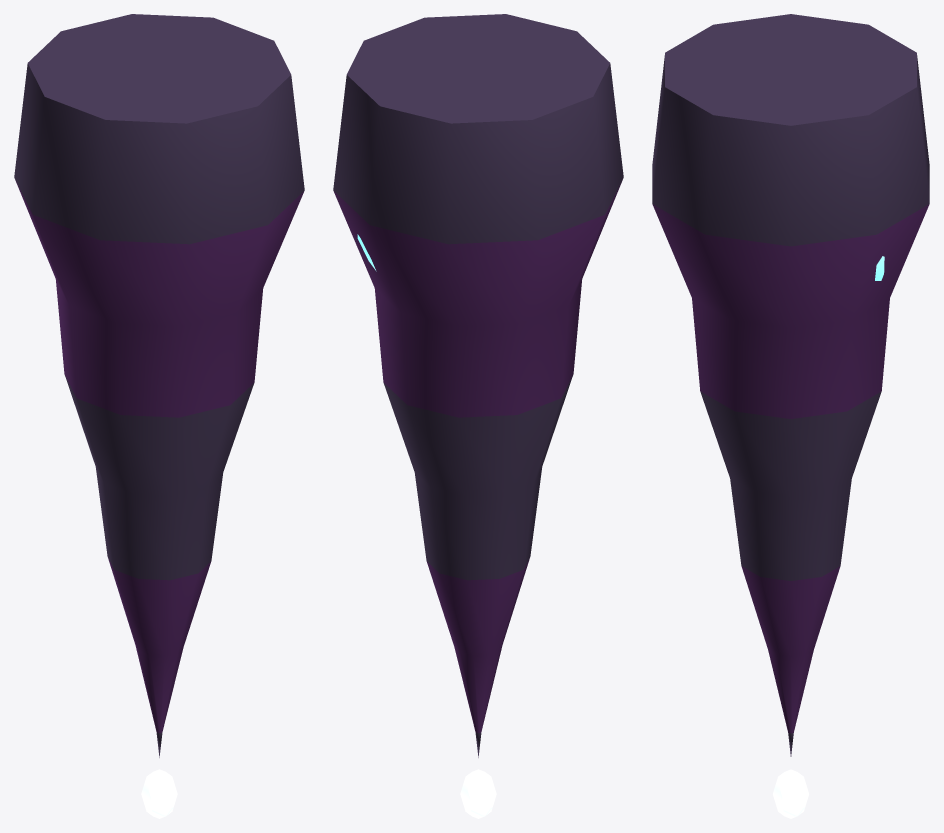
Rendered from W4_Stalactite_A.fbx.
The picture shows the model from 3 angles, left to right: view 1: azimuth 30°, elevation 25°; view 2: azimuth 150°, elevation 25°; view 3: azimuth 270°, elevation 25°; orthographic projection.
Parts seen in each view (by area): view 1: W4_Stalactite_A; view 2: W4_Stalactite_A; view 3: W4_Stalactite_A.
Part boxes in pixels (bbox=[...]): W4_Stalactite_A: bbox=[14, 14, 304, 818]; W4_Stalactite_A: bbox=[333, 14, 623, 818]; W4_Stalactite_A: bbox=[652, 14, 929, 818].
Size of the model in its own units: 1.92 by 5.43 by 1.82.
